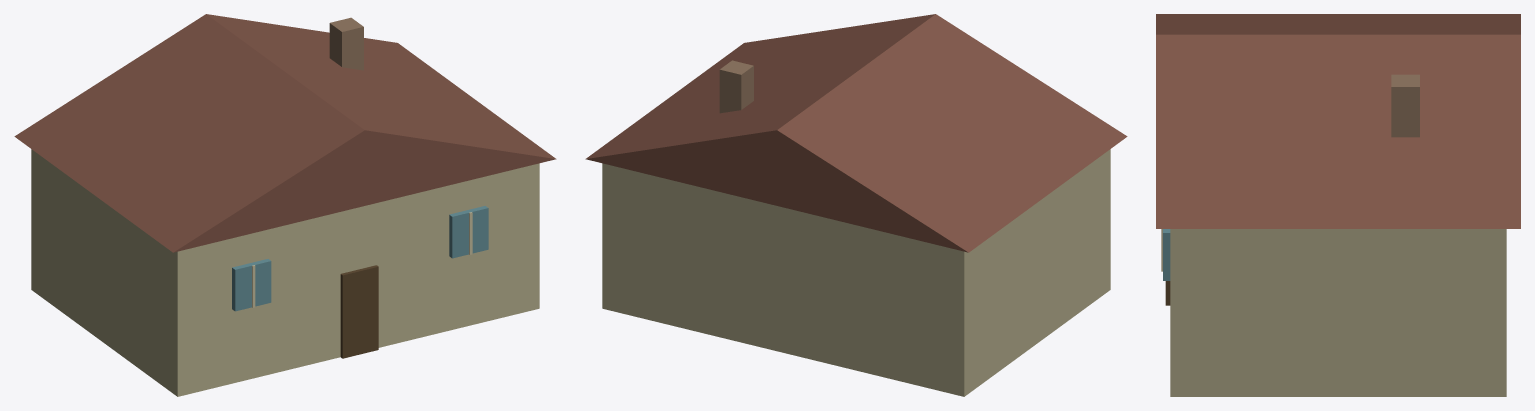
Rendered from shop.gltf.
3 renders of one model, left to right at view 1: azimuth 30°, elevation 25°; view 2: azimuth 150°, elevation 25°; view 3: azimuth 270°, elevation 25°, orthographic. The views are drawn at different scales.
Size of the model in its own units: 10.6 by 6.1 by 7.6.
